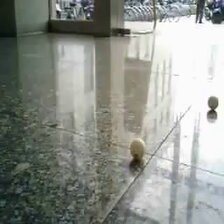w: (129, 137, 147, 160), (208, 96, 219, 110)
